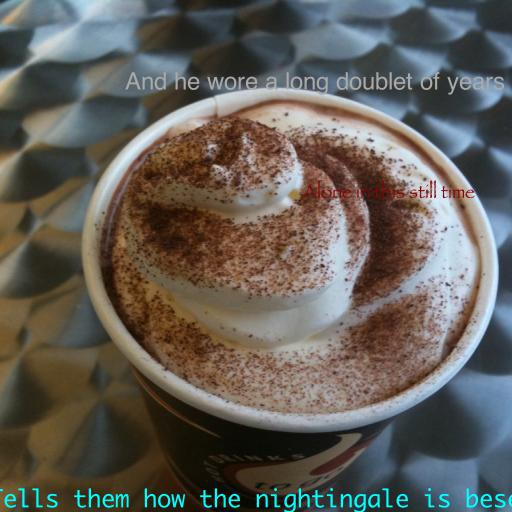Big Caslon: (125, 72, 505, 95)
Monaco: (0, 488, 512, 512)
Papyrus: (303, 180, 475, 199)
